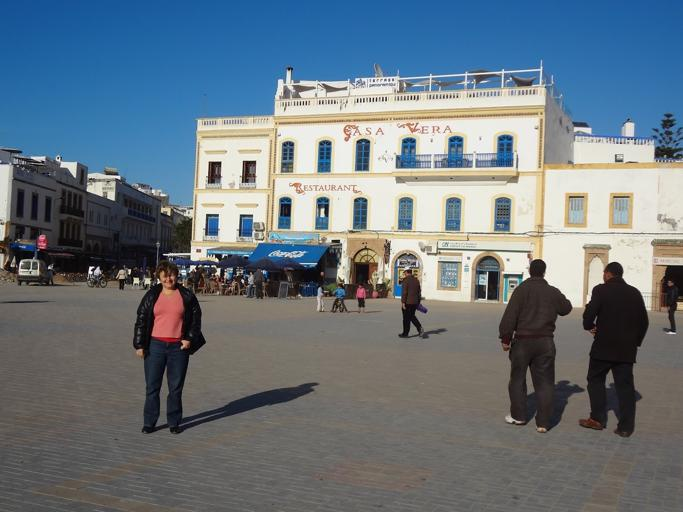non-vehicle: (87, 274, 107, 288), (332, 298, 344, 312)
